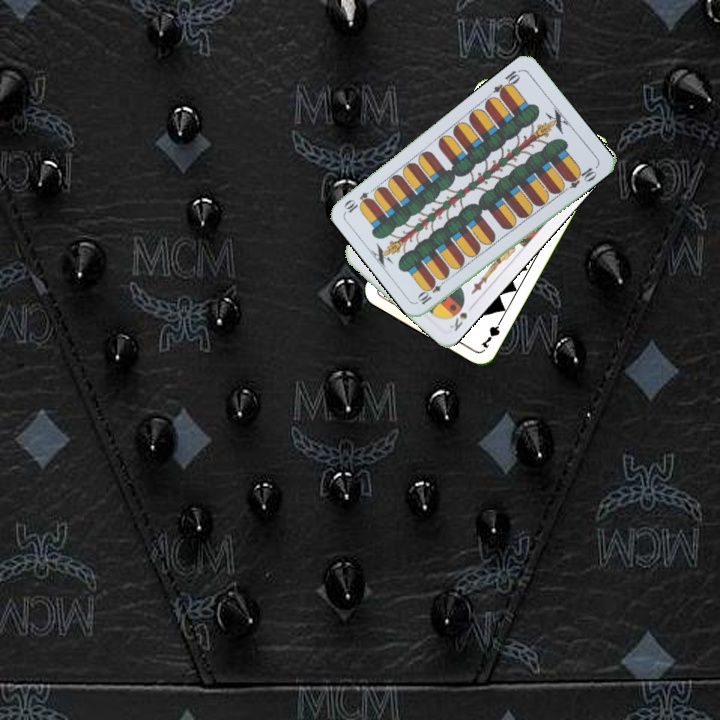E10: (489, 66, 524, 100), (414, 274, 449, 307)
G7: (477, 314, 505, 351)
SK: (446, 308, 470, 334)
